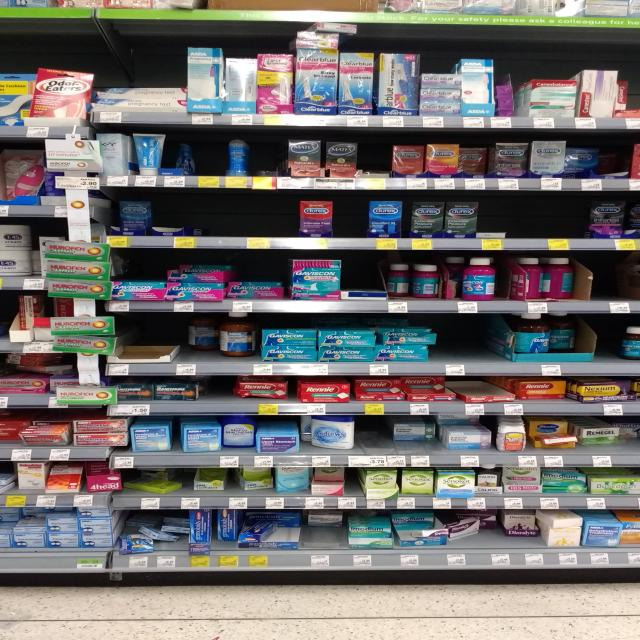void: (439, 322, 502, 379), (123, 317, 179, 377), (530, 192, 578, 256), (201, 189, 248, 252), (248, 190, 292, 252), (580, 254, 634, 300), (331, 188, 369, 248), (162, 193, 200, 250), (454, 381, 510, 417), (490, 198, 522, 254), (202, 380, 241, 412)
